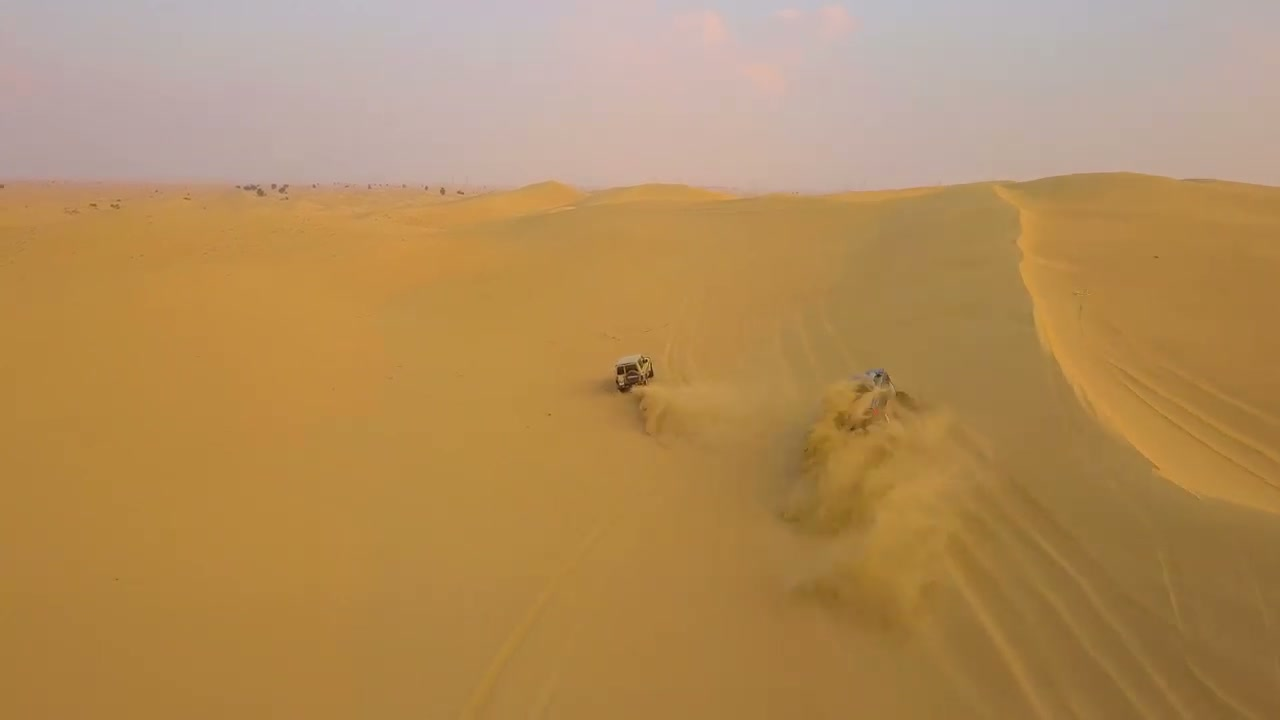vehicle_track: (922, 420, 1246, 719), (1099, 316, 1279, 504)
